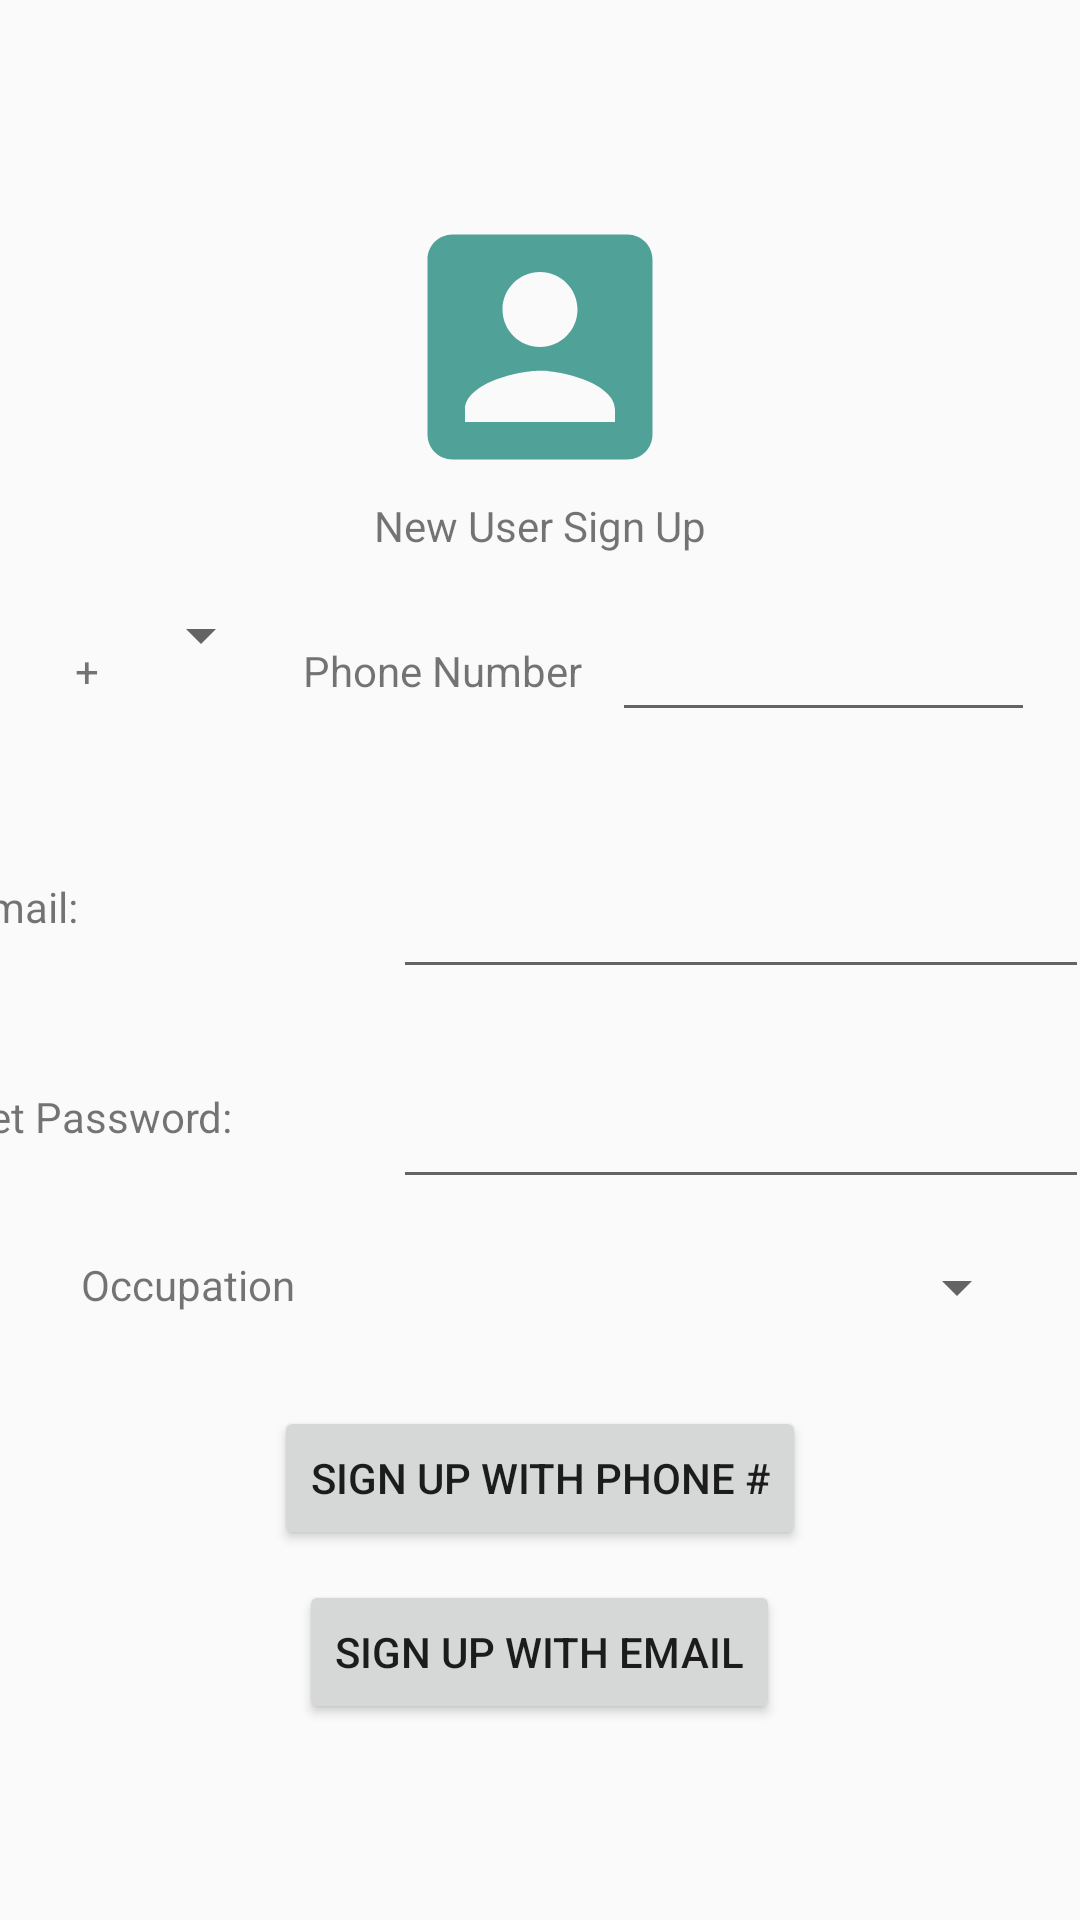

Named icons in this screenshot (1080x1920) and their bounding boxes, [x1,y1,x2,y2]:
account box: [427,234,653,460]
